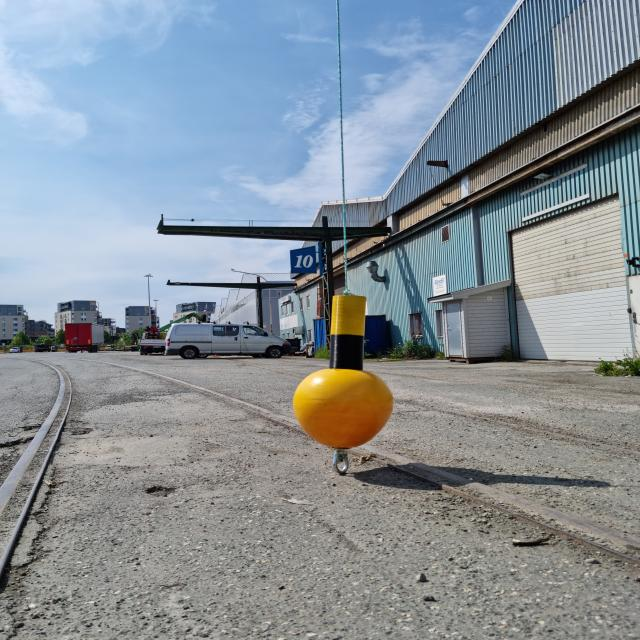west: (296, 298, 394, 450)
